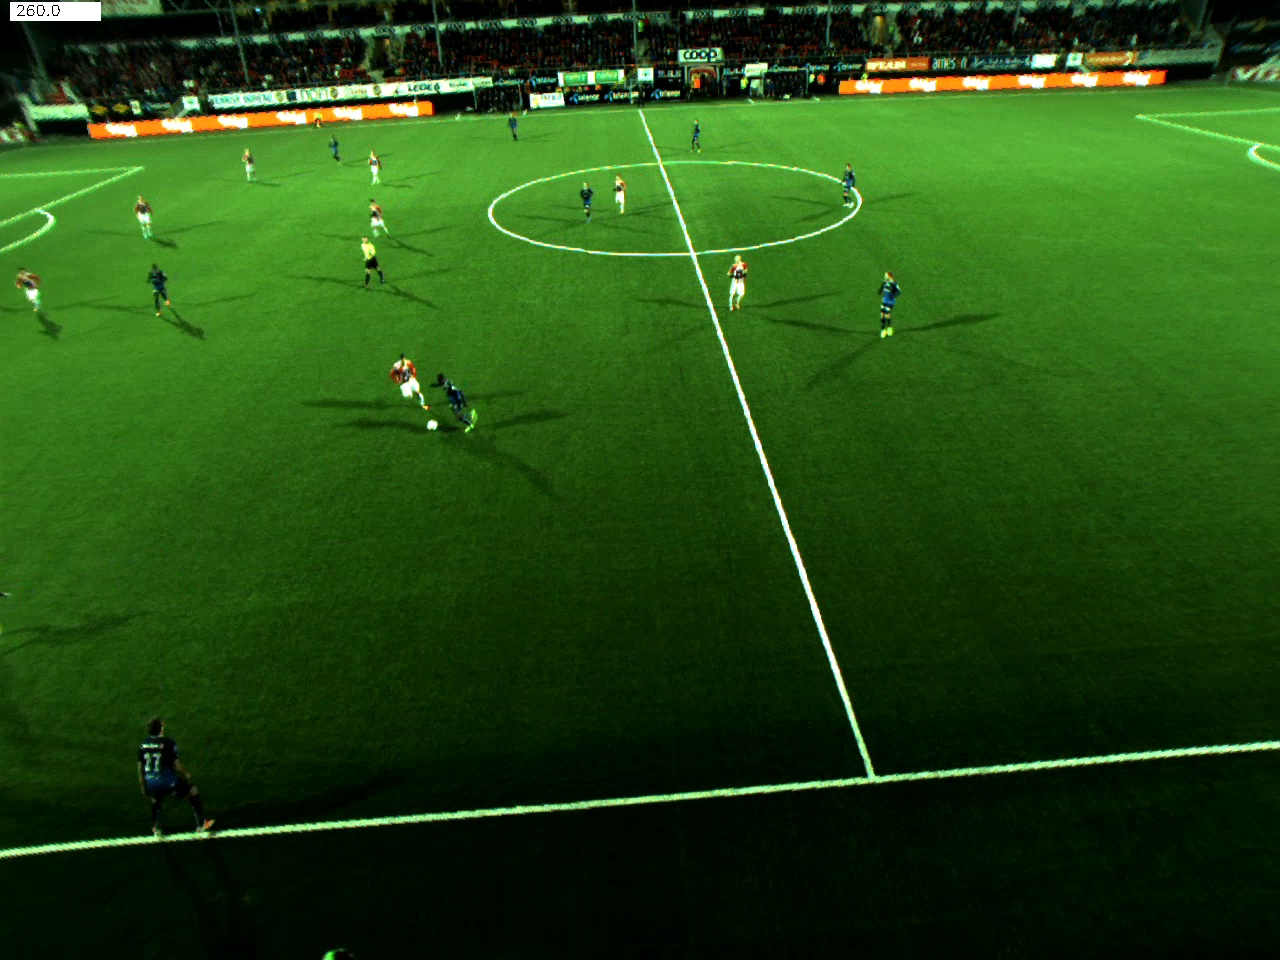blue: (120, 713, 233, 844), (873, 257, 908, 353), (138, 257, 178, 323), (441, 370, 481, 435), (833, 159, 859, 210), (684, 123, 708, 157), (577, 184, 596, 224), (330, 138, 349, 173), (503, 119, 527, 145)
red: (13, 263, 78, 334), (121, 188, 169, 249), (396, 346, 427, 438), (720, 242, 753, 324), (602, 166, 645, 214), (358, 198, 402, 242), (363, 148, 394, 196), (234, 141, 267, 185)
yellow: (346, 228, 401, 298)
